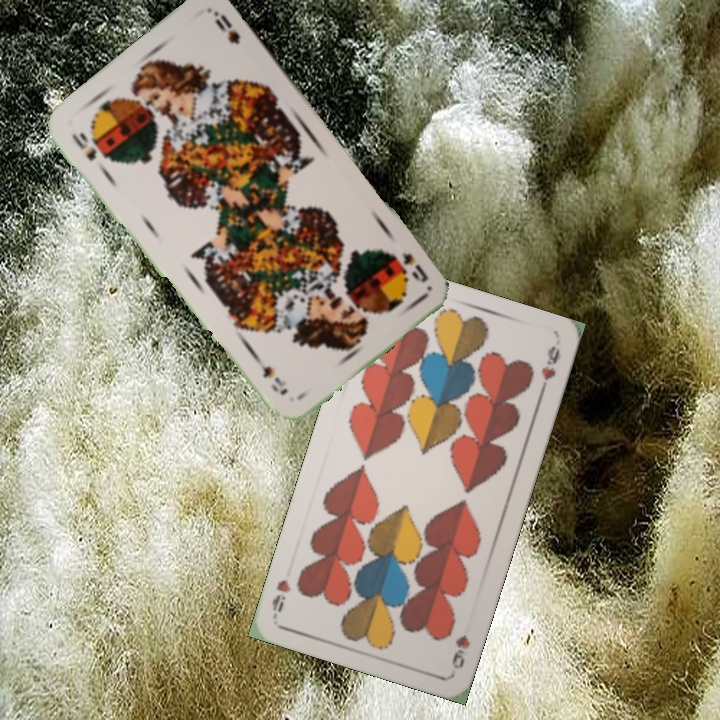H9: (447, 631, 473, 672)
SO: (67, 128, 109, 164), (397, 249, 432, 285)
